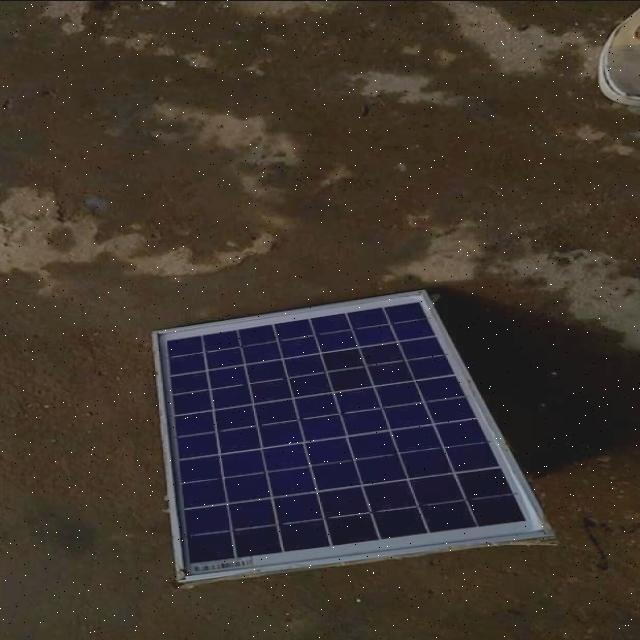Normal Solar Panel: (154, 289, 554, 581)
